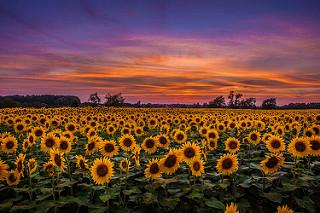sunflower: (90, 156, 113, 184), (160, 149, 182, 174), (260, 153, 285, 174), (216, 153, 238, 175), (288, 137, 311, 157), (181, 142, 201, 162), (143, 160, 162, 180), (51, 151, 68, 173), (1, 135, 18, 154), (266, 136, 285, 153), (97, 140, 117, 156), (40, 135, 59, 151), (83, 136, 98, 155), (306, 136, 320, 156), (141, 137, 158, 153), (118, 135, 136, 150), (190, 159, 205, 176), (6, 168, 21, 185), (15, 153, 26, 176), (132, 143, 142, 166), (156, 134, 171, 149), (58, 138, 73, 153), (225, 138, 240, 152), (248, 130, 261, 145), (31, 126, 45, 138), (205, 129, 219, 141), (118, 158, 130, 171), (174, 131, 186, 142), (207, 139, 217, 150)
